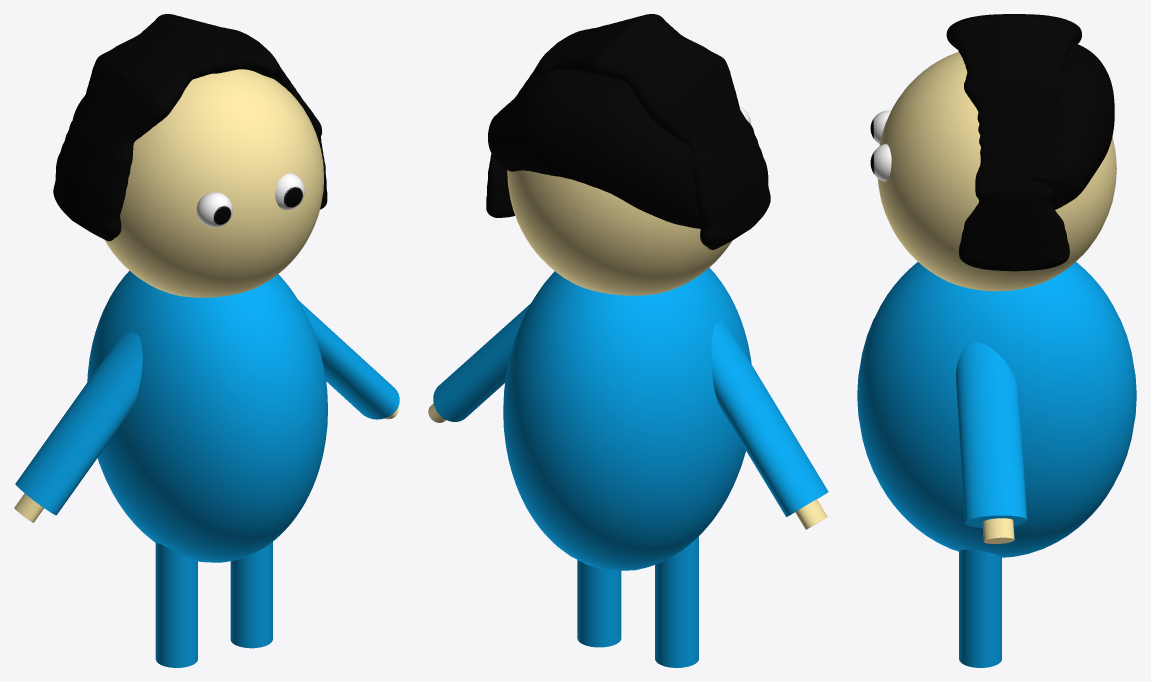
File: Player.fbx
3 views of the same model, side by side, from view 1: azimuth 30°, elevation 25°; view 2: azimuth 150°, elevation 25°; view 3: azimuth 270°, elevation 25° (orthographic). The views are drawn at different scales.
Visible parts, largest first — view 1: root (×9); view 2: root (×8); view 3: root (×8).
Part boxes in pixels (x1,y1,x2,y2): root (×9): [15, 14, 399, 667]; root (×8): [433, 14, 828, 667]; root (×8): [857, 14, 1136, 667].
Bounding box in the file's own units: 0.2753 × 0.4272 × 0.174.
9 materials, 6 textured.
